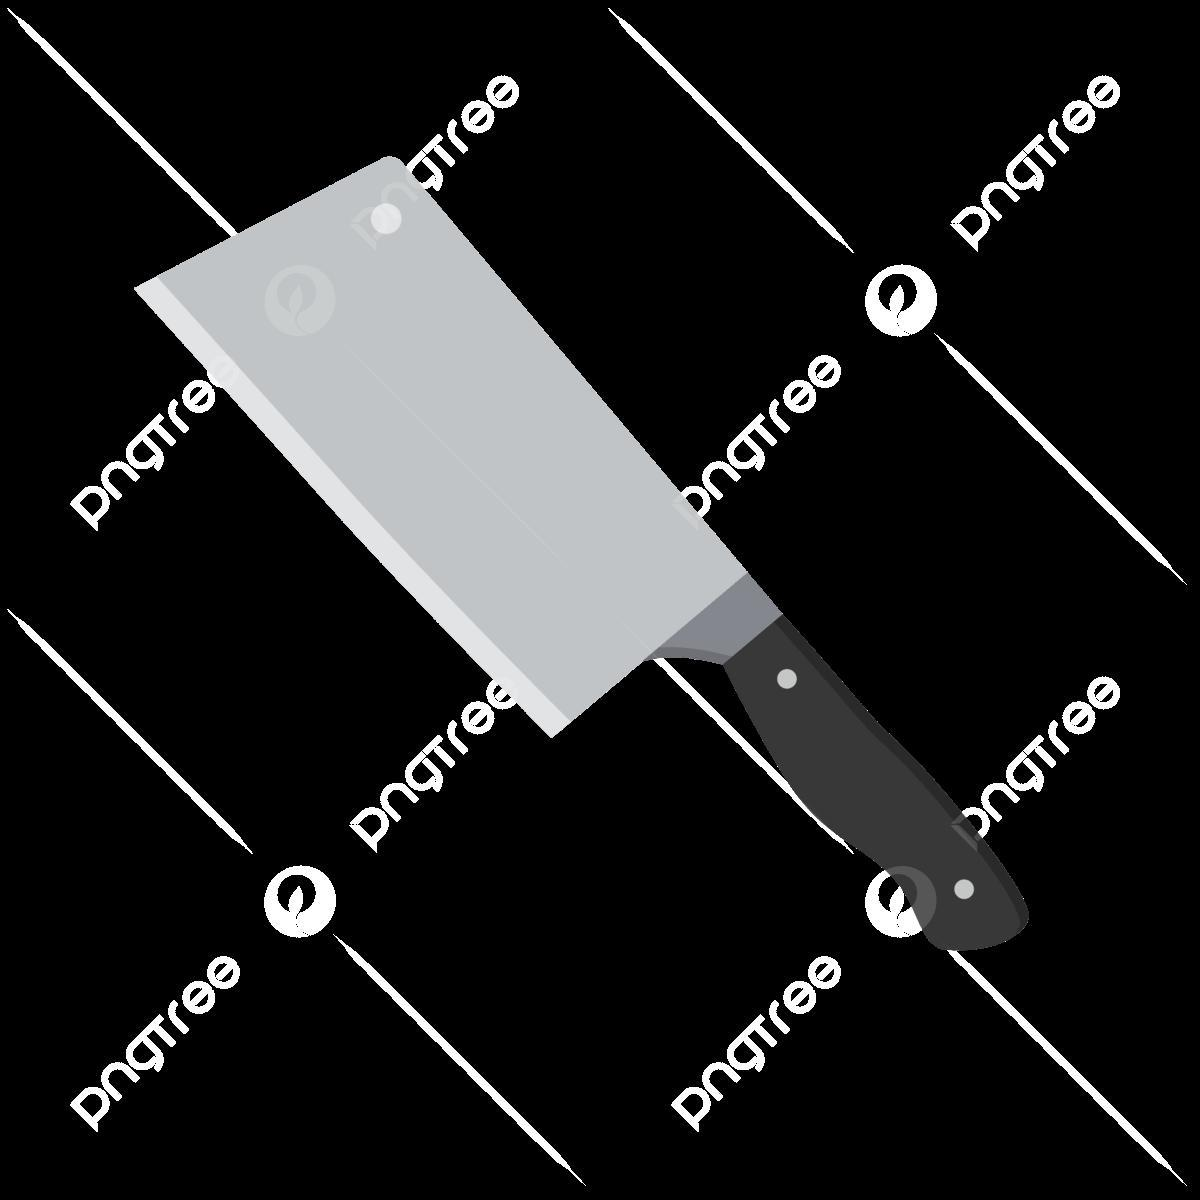facao: (138, 160, 1027, 951)
